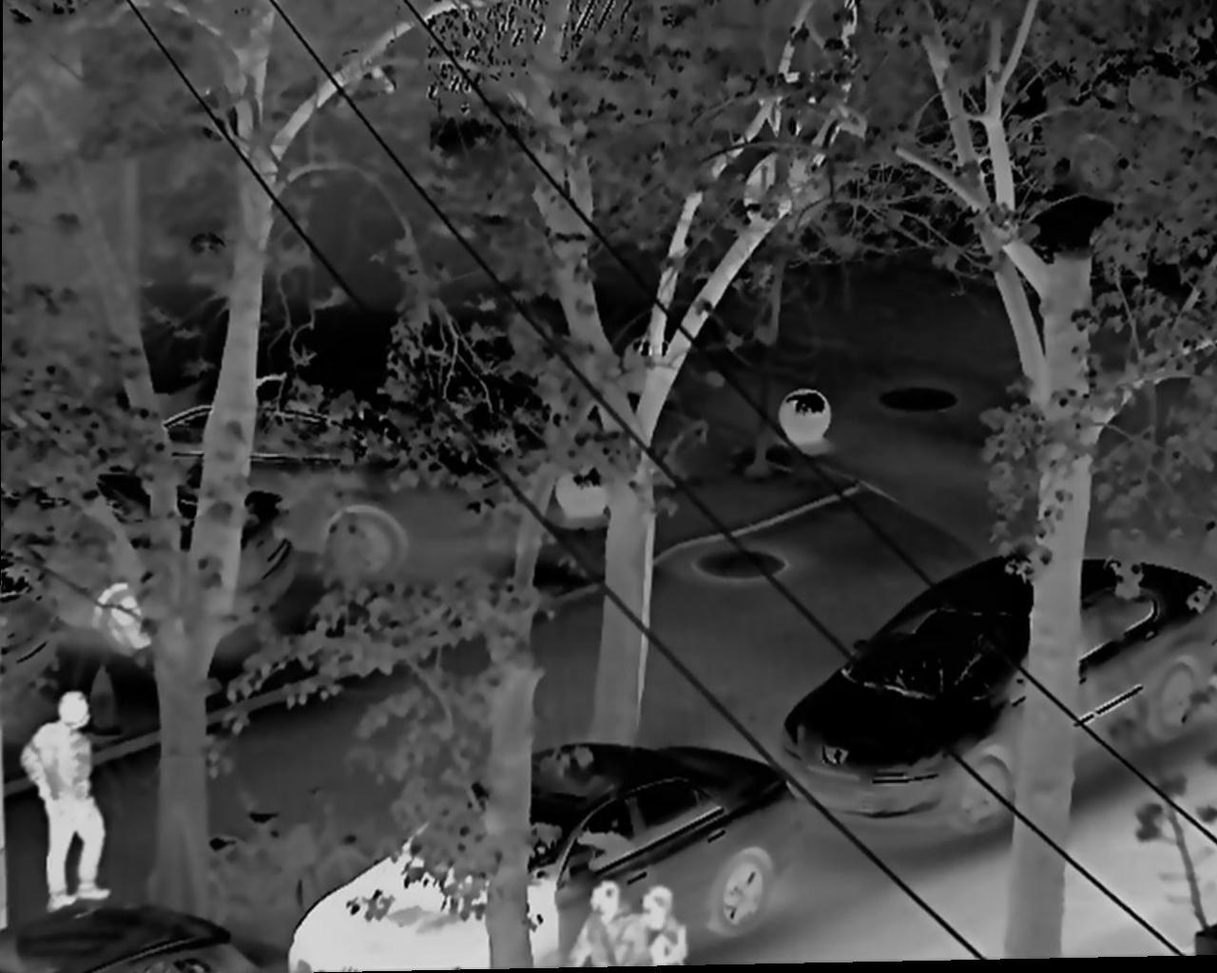person: (19, 692, 108, 911)
